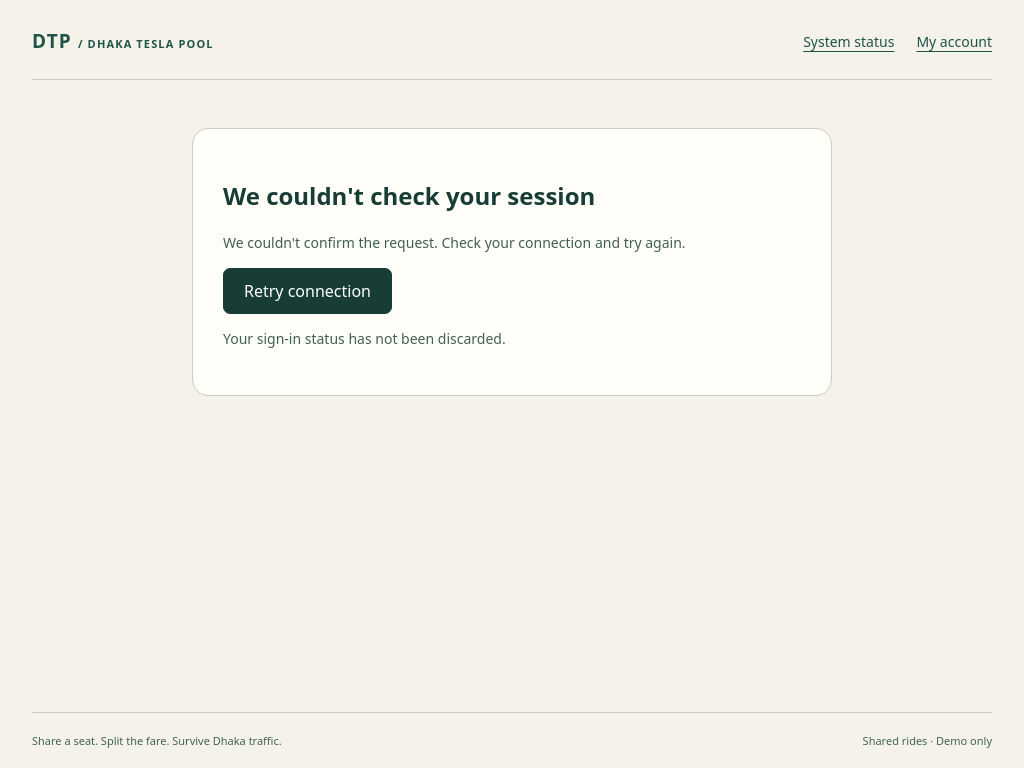
Test case: authentication UI › offers recovery for network restoration failure instead of showing login
Click the button "Retry connection".
click(308, 291)  # box [223,268,392,314]
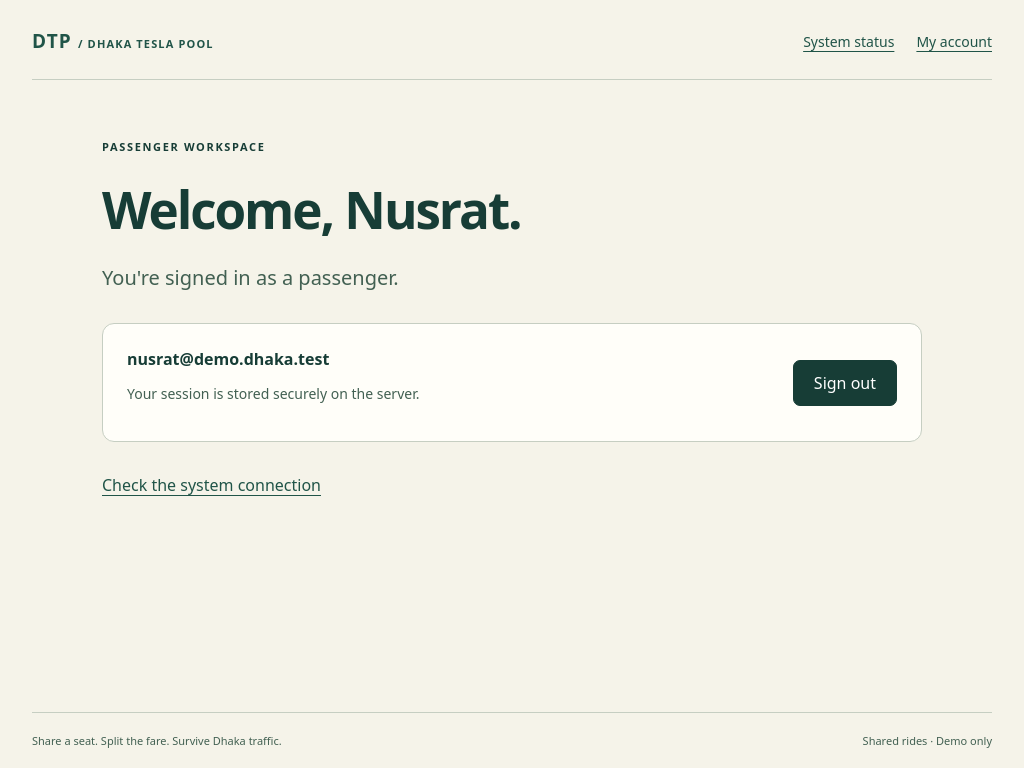
Expected: the heading "Welcome, Nusrat." is shown, [102,174,521,244]
